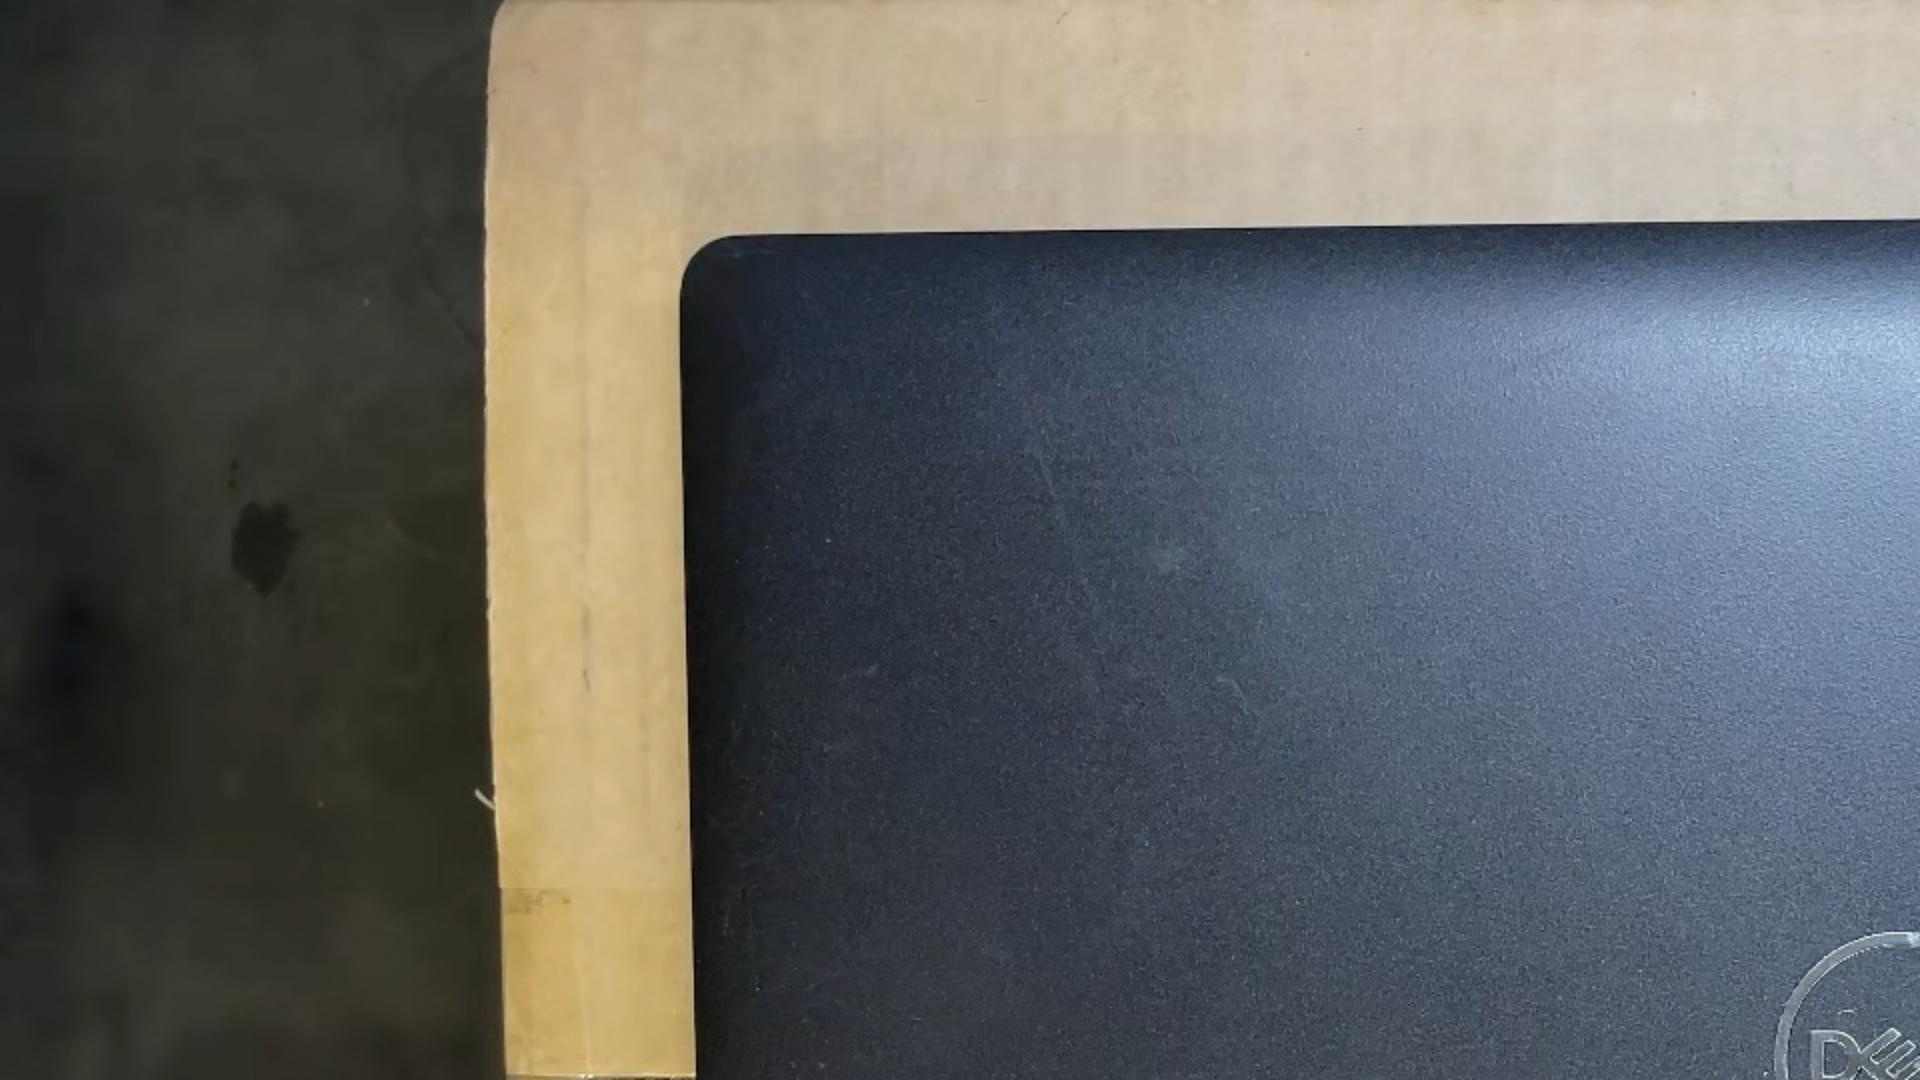chip: (1904, 928, 1920, 953), (1762, 1068, 1770, 1079), (824, 537, 832, 545)
scratches: (1022, 429, 1081, 547), (1213, 676, 1263, 719), (1837, 1009, 1855, 1015)
